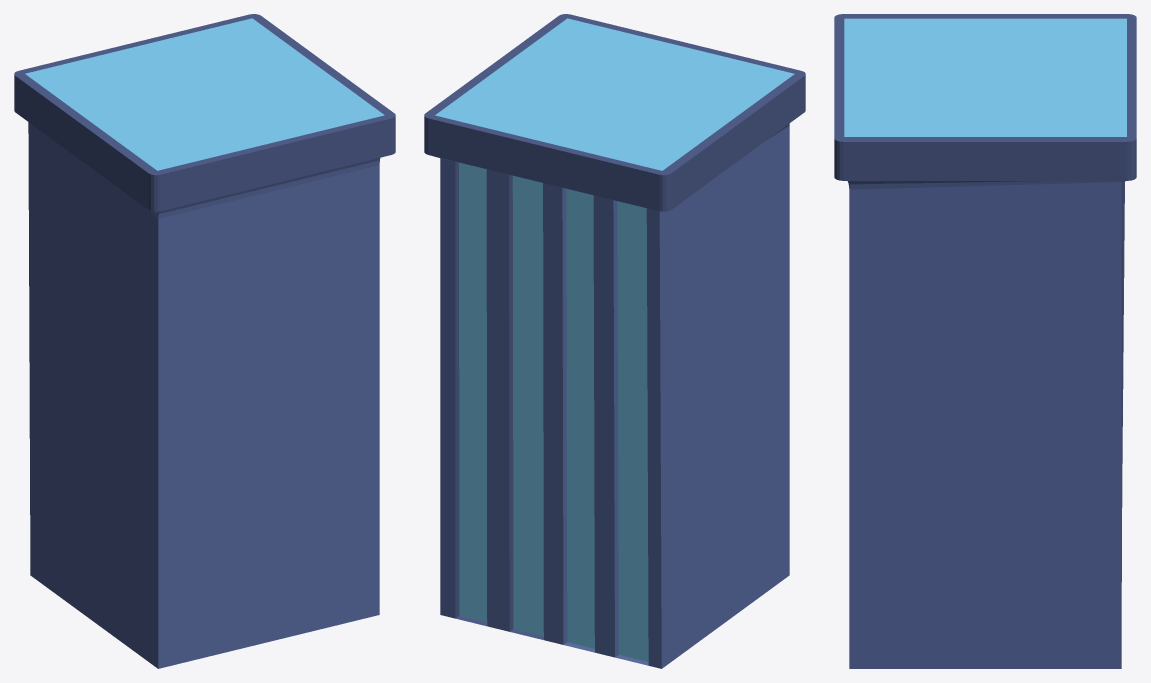
File: Boxblend.fbx
3 renders of one model, left to right at view 1: azimuth 30°, elevation 25°; view 2: azimuth 150°, elevation 25°; view 3: azimuth 270°, elevation 25°, orthographic. The views are drawn at different scales.
Parts seen in each view (by area): view 1: Cube; view 2: Cube; view 3: Cube.
Part boxes in pixels (box(x1,y1,x2,y2)): Cube: box(14, 14, 395, 668); Cube: box(424, 14, 805, 668); Cube: box(834, 14, 1136, 668).
Size of the model in its own units: 6665 by 12967 by 6665.
